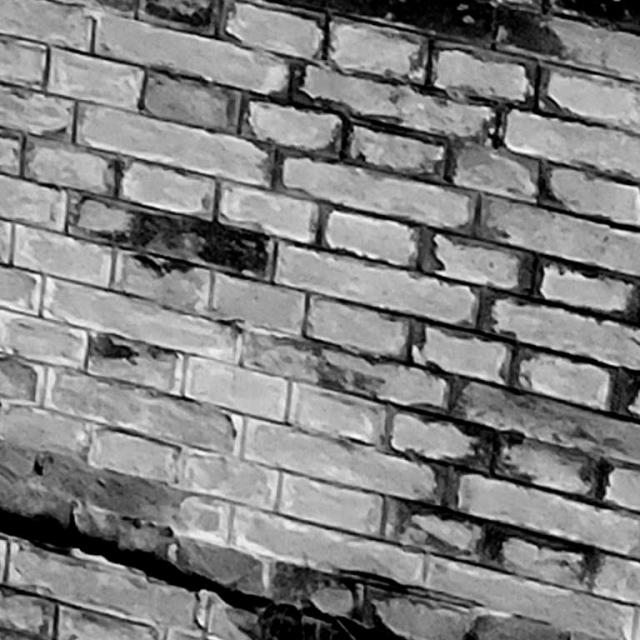crack: (1, 508, 407, 640)
